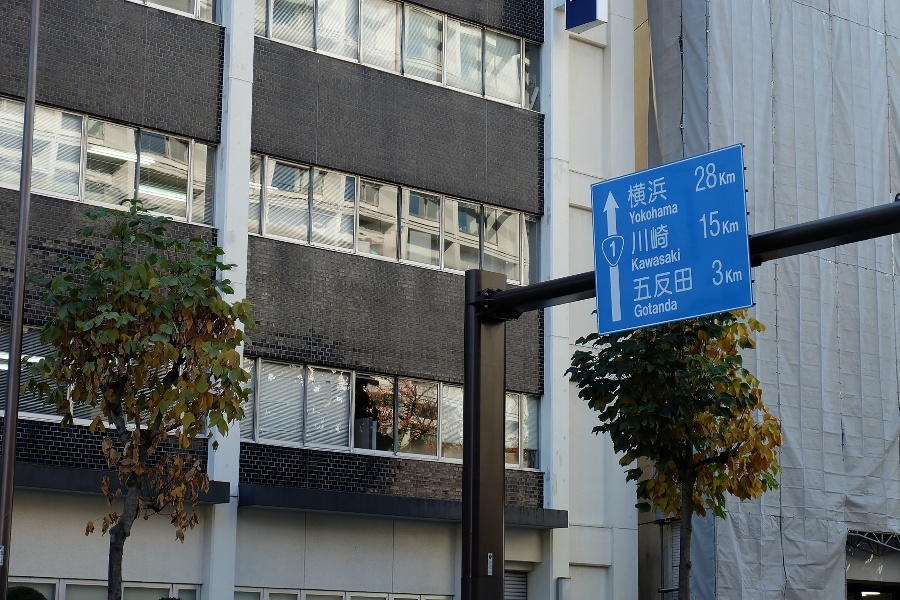text: (641, 266, 656, 303), (657, 266, 672, 303), (673, 266, 688, 303), (641, 176, 656, 210), (641, 222, 656, 256), (705, 210, 721, 240), (627, 176, 640, 210), (657, 222, 670, 256), (705, 162, 718, 193), (641, 200, 656, 226), (657, 200, 672, 226), (641, 247, 656, 272), (657, 247, 672, 272), (657, 176, 668, 210), (641, 296, 656, 319), (657, 296, 672, 319), (629, 200, 640, 226), (721, 217, 736, 236), (695, 162, 704, 193), (632, 222, 640, 256), (721, 169, 736, 187), (633, 266, 640, 303), (610, 240, 624, 258), (711, 259, 720, 287), (631, 247, 640, 272), (673, 247, 681, 272), (725, 267, 736, 285), (698, 210, 704, 240), (673, 200, 679, 226), (689, 266, 693, 303), (634, 296, 640, 319), (673, 296, 679, 319), (737, 267, 743, 285), (721, 259, 724, 287), (737, 217, 740, 236), (719, 169, 720, 187)
